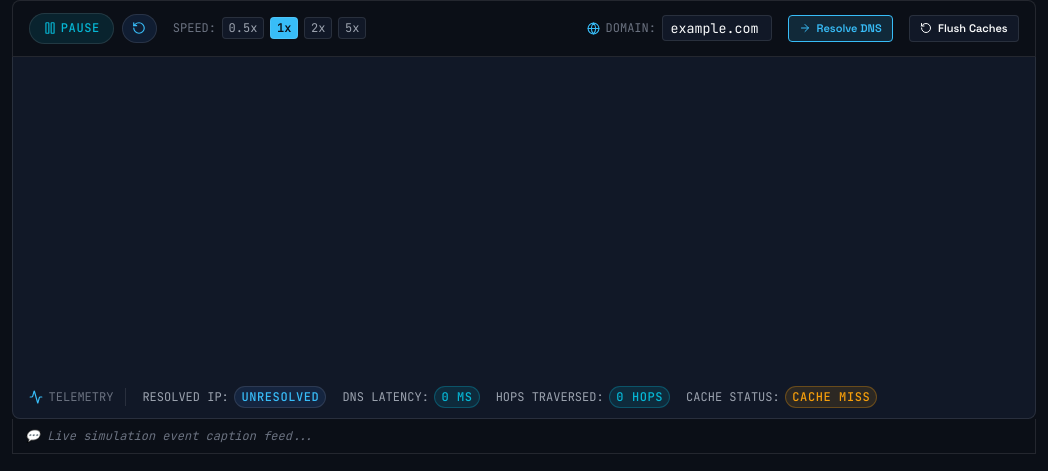
Test: DnsVisualizer (Catalog Viz #13) › handles Resolve DNS button click
Click the button "Resolve DNS".
click(840, 28)  # box 788,15 -> 893,42
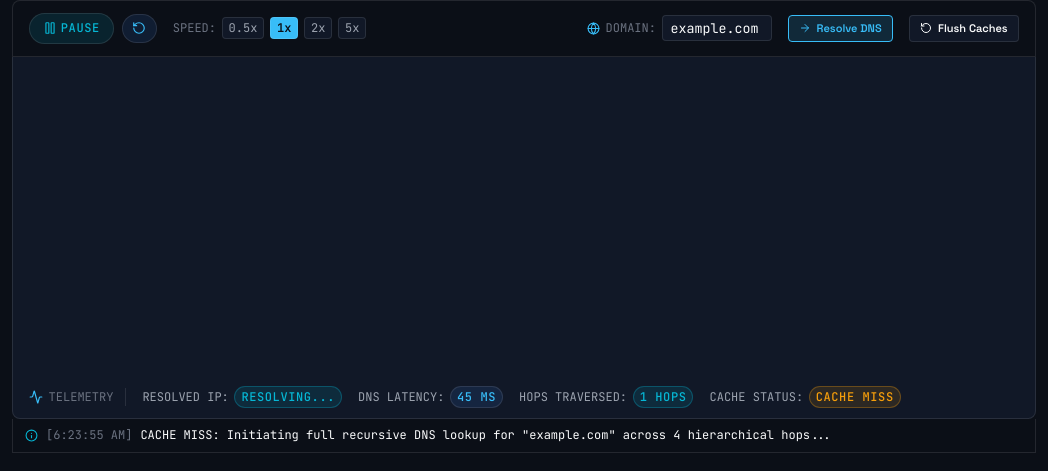
Now the text "Initiating full recursive DNS lookup" is shown, box 140,427 -> 832,443
